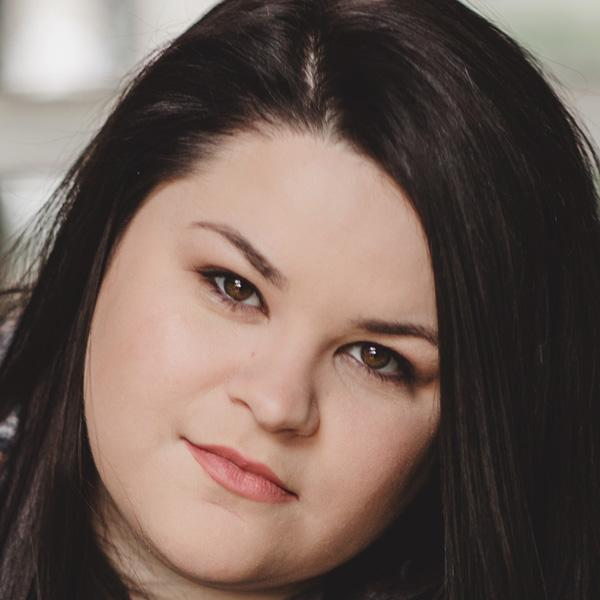Eyes: (332, 330, 422, 397), (189, 255, 275, 325)
